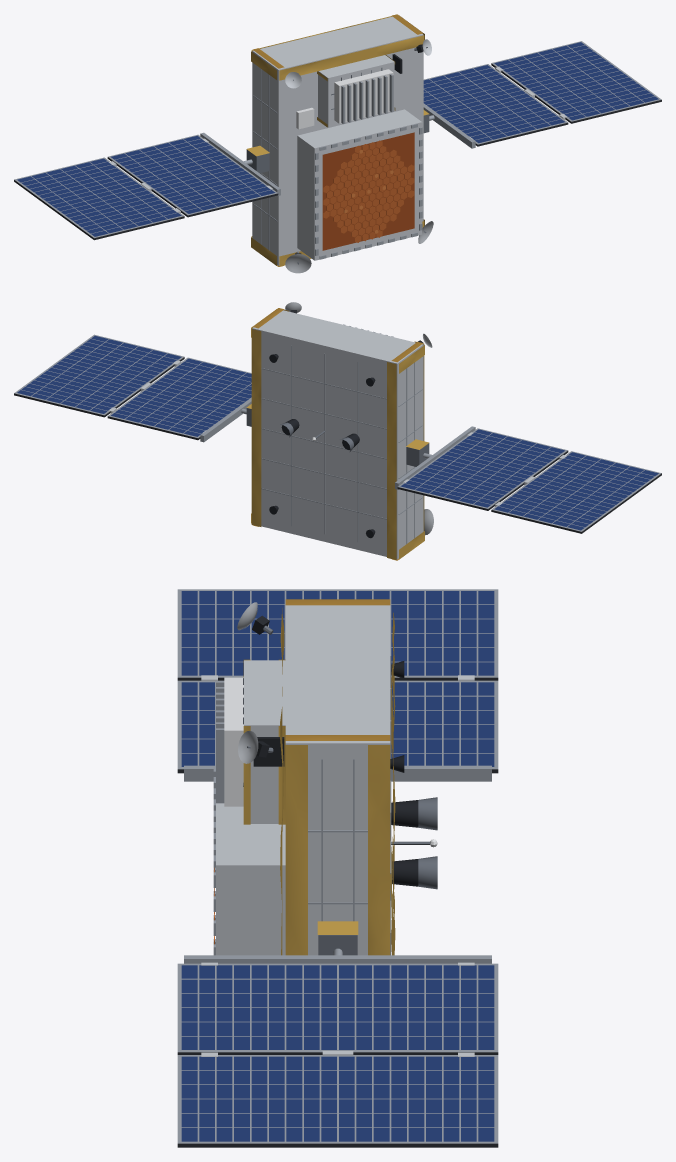
Rendered from iridium-next.glb.
3 renders of one model, top to bottom at view 1: azimuth 30°, elevation 25°; view 2: azimuth 150°, elevation 25°; view 3: azimuth 270°, elevation 25°, orthographic. The views are drawn at different scales.
Visible parts, largest first — view 1: body, solar-panel, foil; view 2: body, solar-panel, foil; view 3: body, solar-panel, foil.
Part boxes in pixels (box(x1,y1,x2,y2)): body: box(14, 16, 661, 273); solar-panel: box(17, 42, 658, 236); foil: box(246, 14, 429, 266); body: box(14, 302, 661, 559); solar-panel: box(17, 336, 658, 530); foil: box(246, 308, 429, 560); body: box(177, 589, 498, 1147); solar-panel: box(181, 591, 494, 1141); foil: box(243, 599, 395, 955).
Size of the model in its own units: 9.4 by 3.19 by 2.3.
